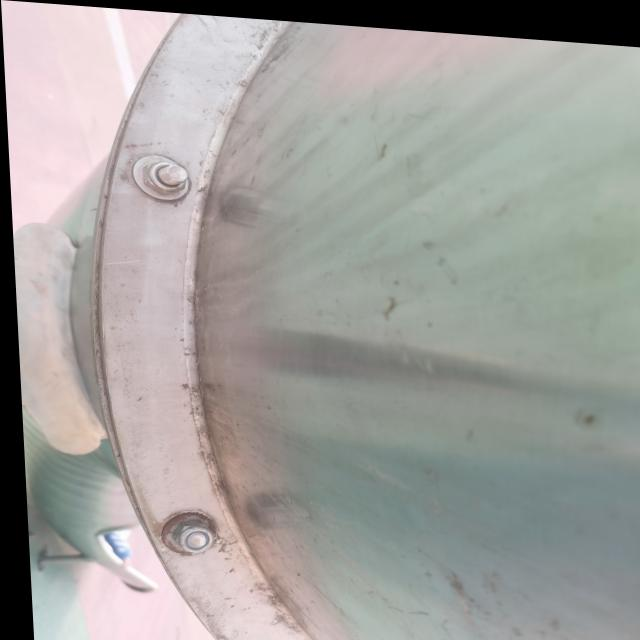Regular bolt: (141, 159, 188, 195), (167, 518, 209, 553)
